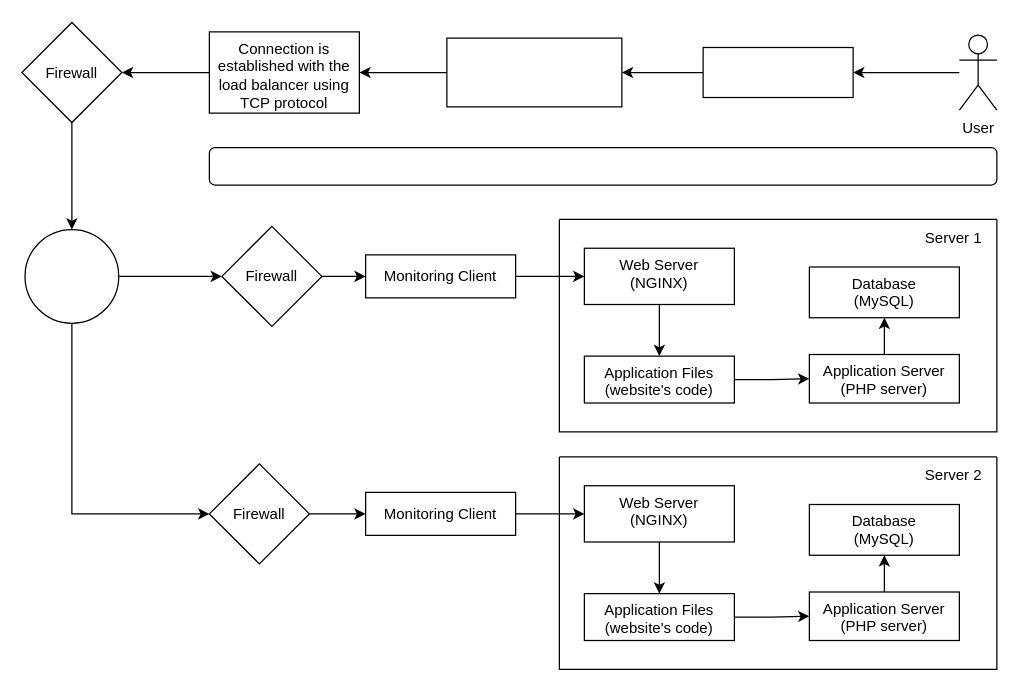
The diagram is 1019 pixels wide and 691 high, and some of its shapes have lost their labels. Here are the shapes that lost their labels. From the top down, the centre of each, then its label:
At (x=534, y=72): "Computer contacts a DNS which translates foobar.com into 8.8.8.8".
At (x=777, y=72): "Tries to access https://foobar.com".
At (x=602, y=165): "SSL Certificate".
At (x=71, y=275): "Load Balancer (HAProxy)".
